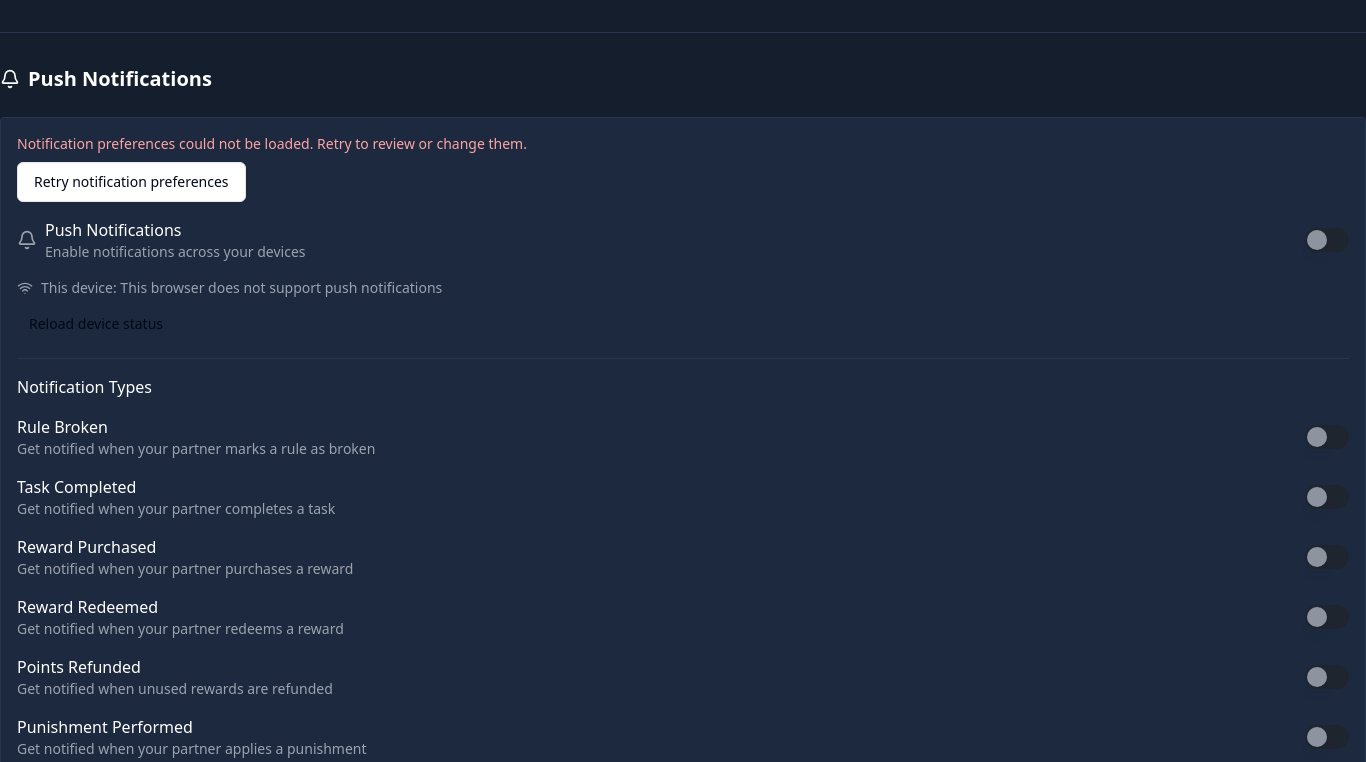
profile section settings rendering › renders Points Refunded with the deletion reason and a disabled/retryable error state
Expected: the message "Notification preferences could not be loaded. Retry to review or change them." is shown, [17, 134, 527, 153]
Expected: the text "Get notified when unused rewards are refunded" is shown, [17, 679, 333, 698]
Click the button "Retry notification preferences".
click(131, 182)  # box [17, 162, 246, 202]
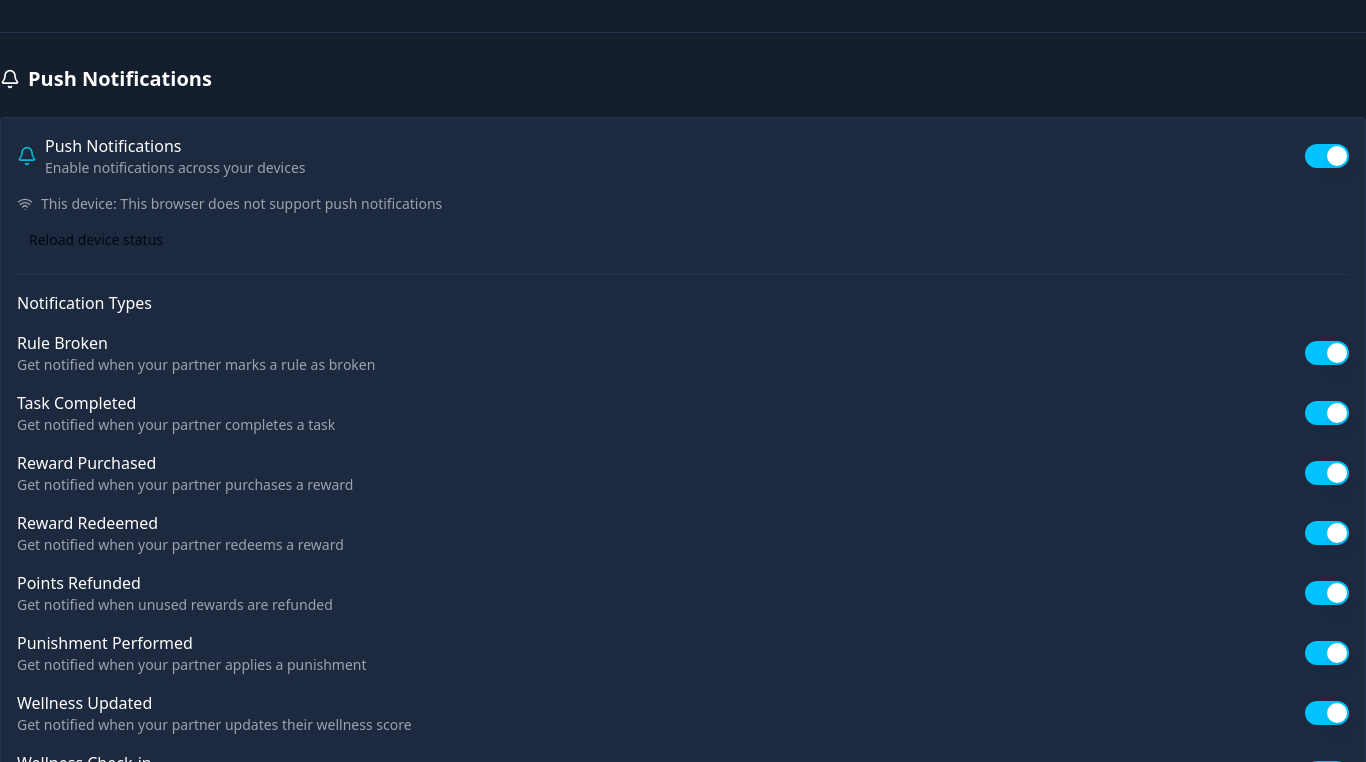
Result: the switch named "Points Refunded" is enabled at [1305, 581, 1349, 605]
